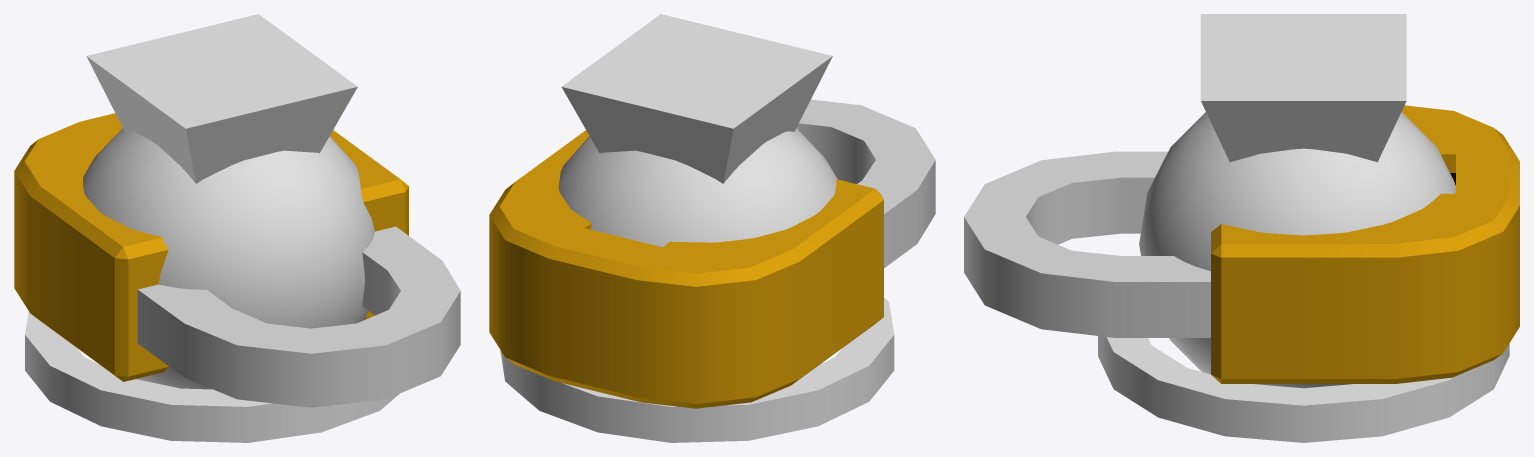
The model's file is levelMarker.fbx.
The picture shows the model from 3 angles, left to right: view 1: azimuth 30°, elevation 25°; view 2: azimuth 150°, elevation 25°; view 3: azimuth 270°, elevation 25°; orthographic projection. The views are drawn at different scales.
Visible parts, largest first — view 1: levelCompleted, lockTop, levelLocked, levelSelected, levelMarker; view 2: levelLocked, levelSelected, levelCompleted, levelMarker, lockTop; view 3: levelLocked, lockTop, levelCompleted, levelSelected, levelMarker.
Part boxes in pixels (x1,y1,x2,y2): levelCompleted: (83, 128, 374, 389); lockTop: (137, 226, 460, 407); levelLocked: (14, 113, 408, 381); levelSelected: (86, 14, 357, 183); levelMarker: (25, 311, 398, 442); levelLocked: (489, 130, 883, 408); levelSelected: (561, 14, 832, 183); levelCompleted: (558, 128, 837, 247); levelMarker: (500, 298, 894, 442); lockTop: (796, 99, 935, 268); levelLocked: (1211, 105, 1519, 383); lockTop: (964, 151, 1210, 337); levelCompleted: (1139, 112, 1455, 388); levelSelected: (1200, 14, 1406, 162); levelMarker: (1098, 336, 1509, 442).
Bounding box in the file's own units: 0.2 × 0.18 × 0.27.
